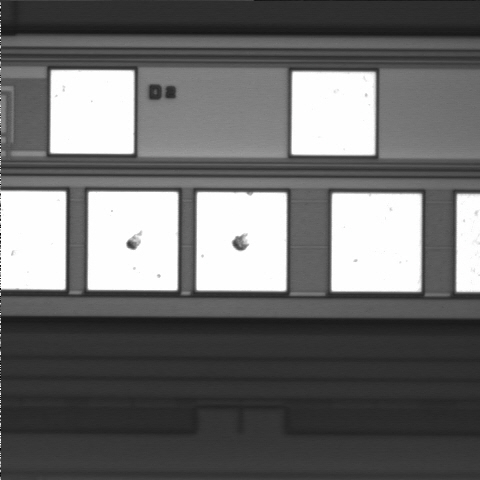pad: (196, 192, 287, 291), (331, 193, 422, 292), (88, 192, 178, 290), (50, 70, 134, 154), (292, 72, 375, 155)
